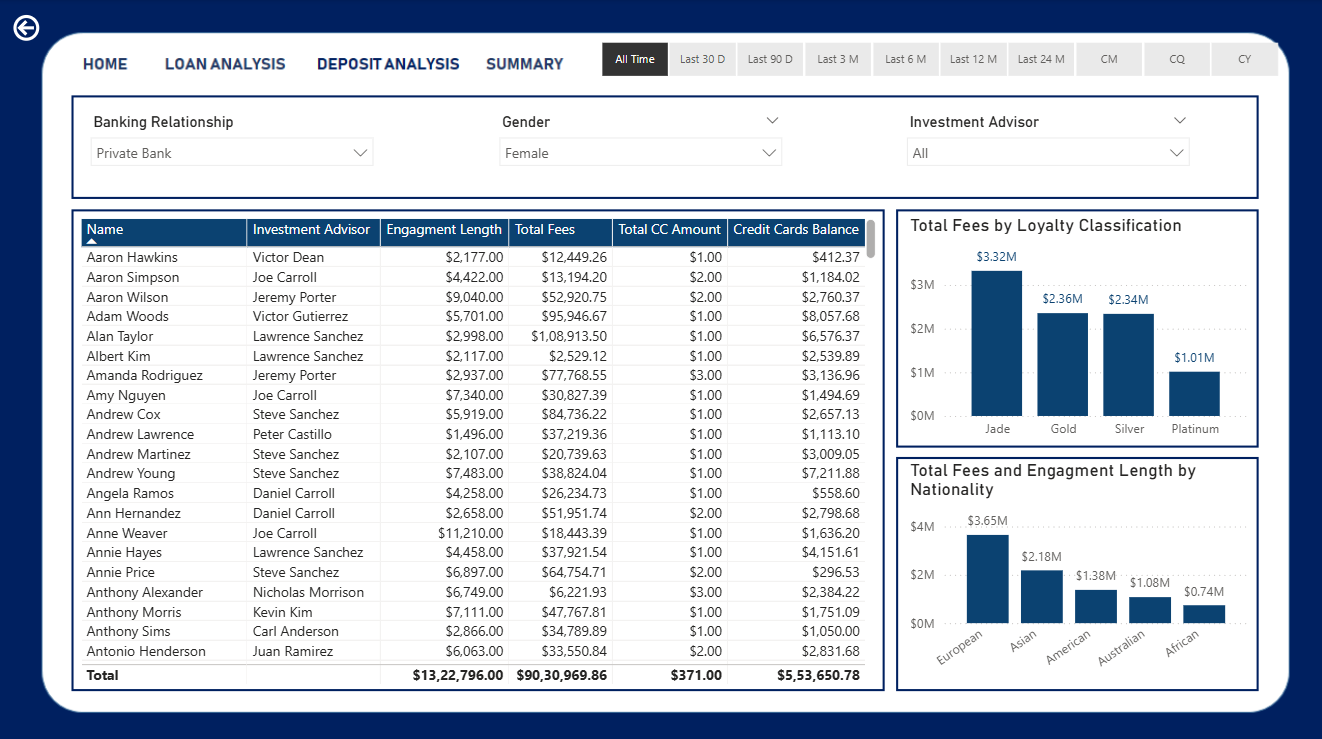

What the dashboard file says about the page in this screenshot:
{"tool":"powerbi","page":{"name":"Drill Through","canvas":[1280,720],"ordinal":4},"visuals":[{"type":"slicer","fields":{"Values":["Banking Relationship.Banking Relationship"]},"box":[77.4,104.4,293.2,76.2],"z":0},{"type":"slicer","fields":{"Values":["Gender.Gender"]},"box":[471.4,104.4,293.2,76.2],"z":1000},{"type":"slicer","fields":{"Values":["Investment Advisor.Investment Advisor"]},"box":[865.4,104.4,293.2,76.2],"z":2000},{"type":"tableEx","fields":{"Values":["Clients - Banking.Name","Investment Advisor.Investment Advisor","DAX Measures.Engagment Length","DAX Measures.Total Fees","DAX Measures.Total CC Amount","DAX Measures.Credit Cards"]},"box":[72.7,207.6,777.5,458.5],"z":3000},{"type":"actionButton","box":[8.2,10.6,41,34],"z":4000},{"type":"clusteredColumnChart","fields":{"Category":["Clients - Banking.Loyalty Classification"],"Y":["DAX Measures.Total Fees"]},"box":[873.6,207.6,336.5,225.1],"z":5000},{"type":"columnChart","fields":{"Category":["Clients - Banking.Nationality"],"Y":["DAX Measures.Total Fees"]},"box":[873.6,444.4,336.5,221.6],"z":6000},{"type":"slicer","fields":{"Values":["Period.Name"]},"box":[555.2,34.6,702.1,46.6],"z":7000},{"type":"actionButton","box":[72.8,44.2,58.5,31],"z":8000},{"type":"actionButton","box":[157.1,44.6,125.5,30.5],"z":9000},{"type":"actionButton","box":[297.9,44.6,151.3,30.5],"z":10000},{"type":"actionButton","box":[471.4,44.6,83.3,37.5],"z":11000}]}

Visuals, with their boxes in screenshot pixels (x1, y1, x2, y2), scaled from the page's 1280x720 canvas onto the 1322x739 screenshot:
slicer - Banking Relationship.Banking Relationship: bbox=(80, 107, 383, 185)
slicer - Gender.Gender: bbox=(487, 107, 790, 185)
slicer - Investment Advisor.Investment Advisor: bbox=(894, 107, 1197, 185)
tableEx - Clients - Banking.Name x Investment Advisor.Investment Advisor: bbox=(75, 213, 878, 684)
actionButton: bbox=(8, 11, 51, 46)
clusteredColumnChart - Clients - Banking.Loyalty Classification x DAX Measures.Total Fees: bbox=(902, 213, 1250, 444)
columnChart - Clients - Banking.Nationality x DAX Measures.Total Fees: bbox=(902, 456, 1250, 684)
slicer - Period.Name: bbox=(573, 36, 1299, 83)
actionButton: bbox=(75, 45, 136, 77)
actionButton: bbox=(162, 46, 292, 77)
actionButton: bbox=(308, 46, 464, 77)
actionButton: bbox=(487, 46, 573, 84)
